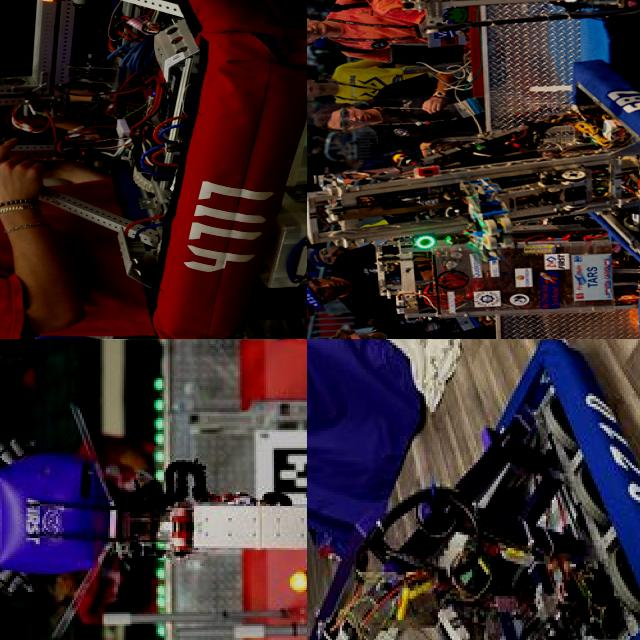FRC-Robots: (0, 0, 307, 339), (307, 339, 640, 640), (0, 339, 307, 640), (325, 78, 640, 339)
